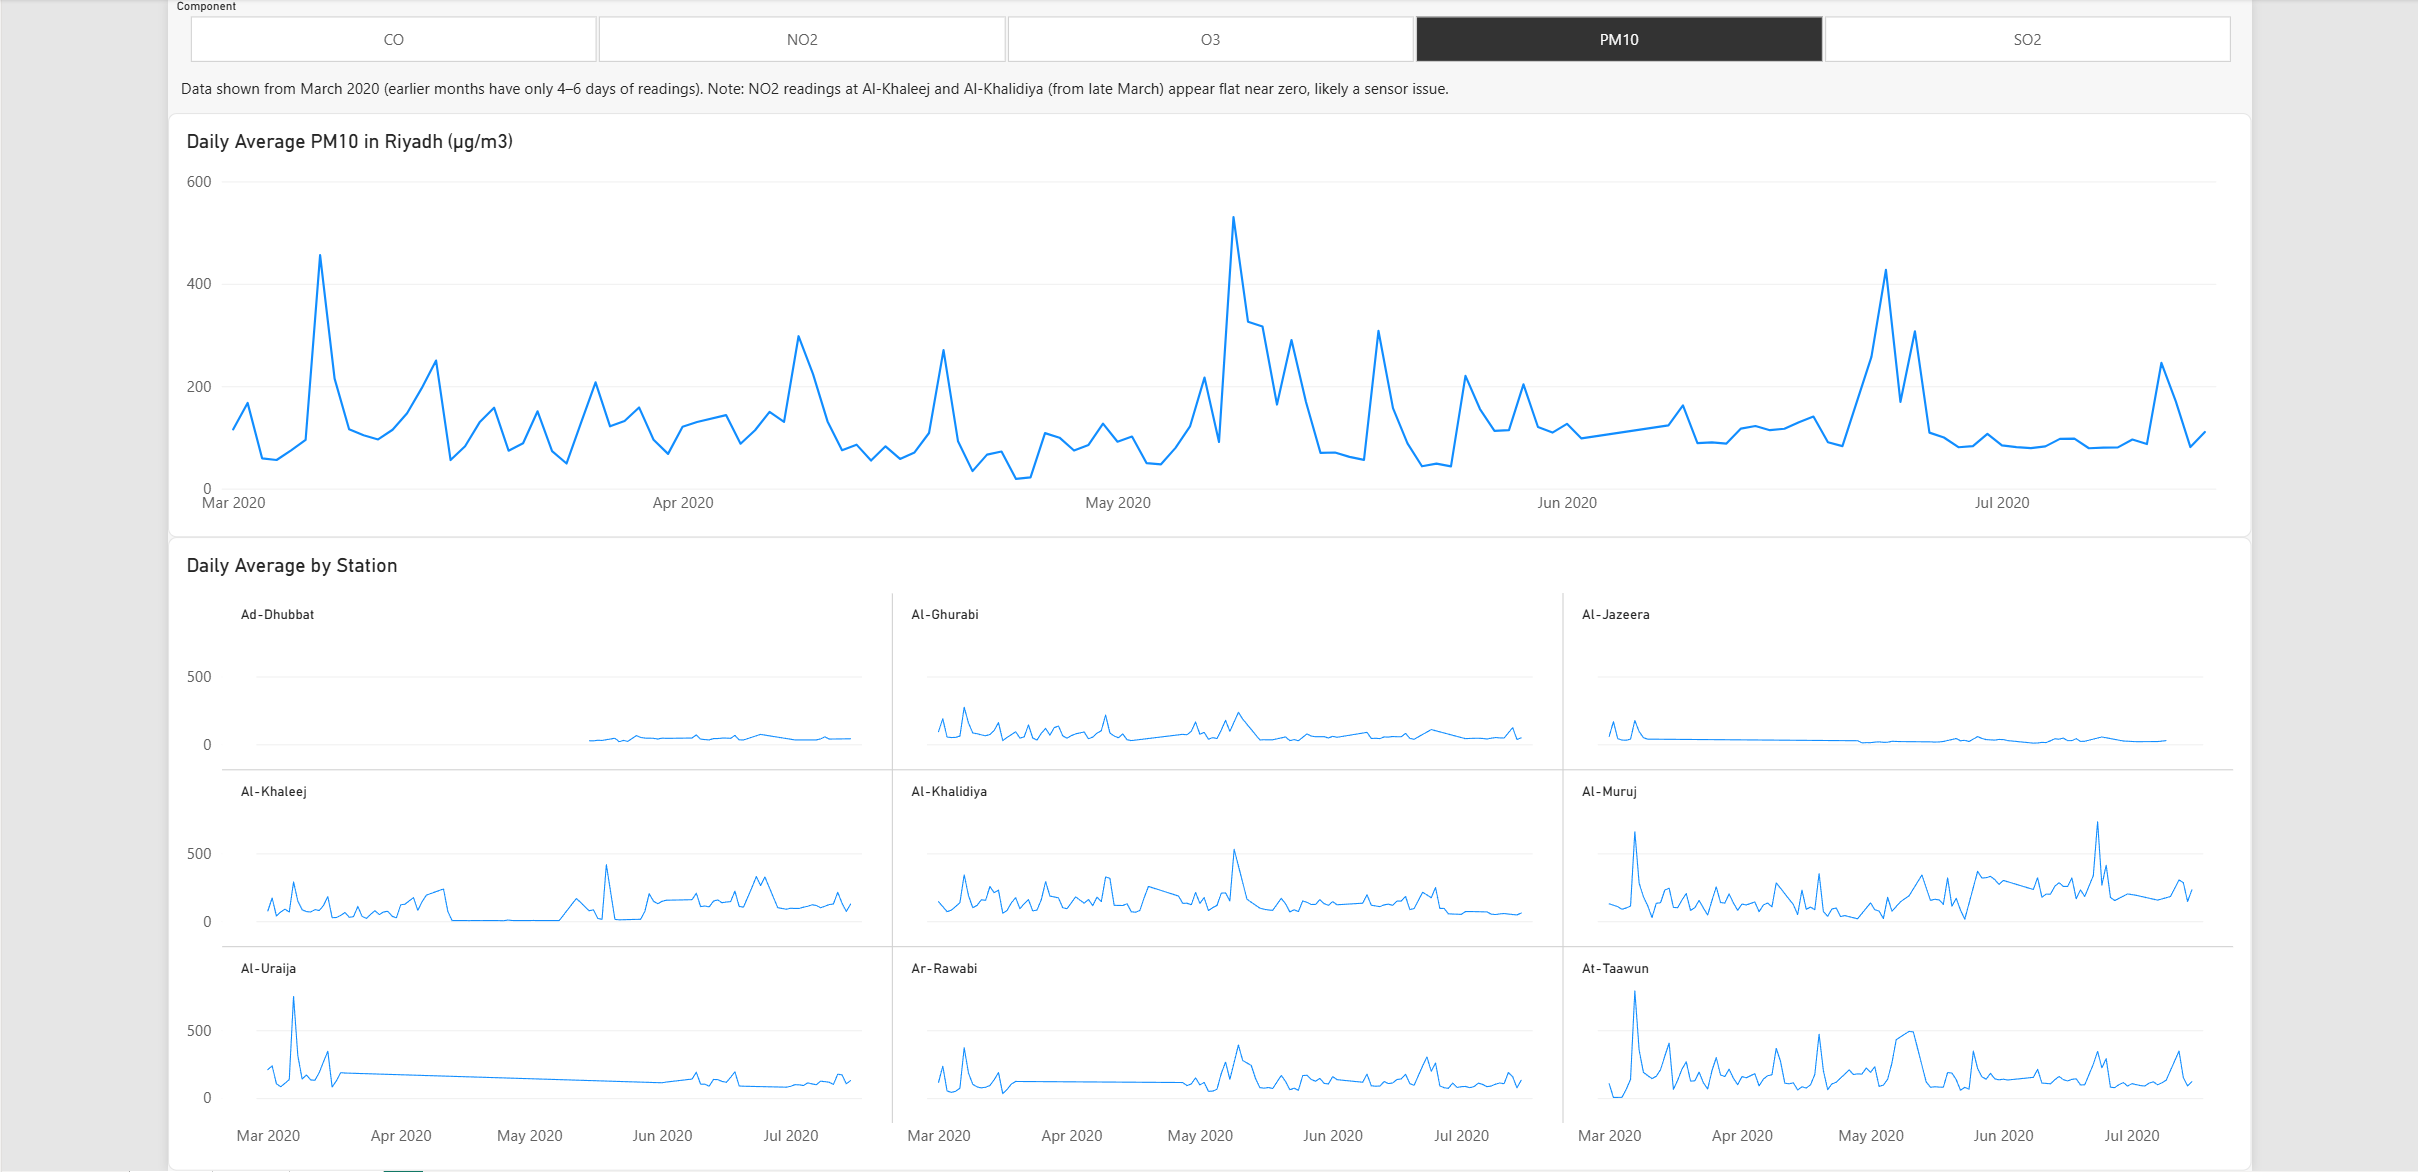

This screenshot's page, from the dashboard's own definition file:
{"tool":"powerbi","page":{"name":"Trends","canvas":[1920,1080],"ordinal":1},"visuals":[{"type":"slicer","fields":{"Values":["Pollutants.Component"]},"box":[0,0,1920,60],"z":0},{"type":"lineChart","fields":{"Category":["Dates.Date"],"Y":["AirQuality.Average Reading"]},"box":[0,105,1920,391.1],"z":1000},{"type":"lineChart","title":"Daily Average by Station","fields":{"Category":["Dates.Date"],"Y":["AirQuality.Average Reading"],"Rows":["Stations.Station"]},"box":[0,496.1,1920,584.1],"z":2000},{"type":"textbox","box":[11.9,72.8,1300.3,61],"z":3000}]}

Visuals, with their boxes on the page's 1920x1080 design canvas (x1, y1, x2, y2). These are canvas units, not pixel positions in the 2418x1172 screenshot, which may show the page scaled, cropped or inside an application window:
slicer - Pollutants.Component: bbox=(0, 0, 1920, 60)
lineChart - Dates.Date x AirQuality.Average Reading: bbox=(0, 105, 1920, 496)
"Daily Average by Station" lineChart: bbox=(0, 496, 1920, 1080)
textbox: bbox=(12, 73, 1312, 134)
